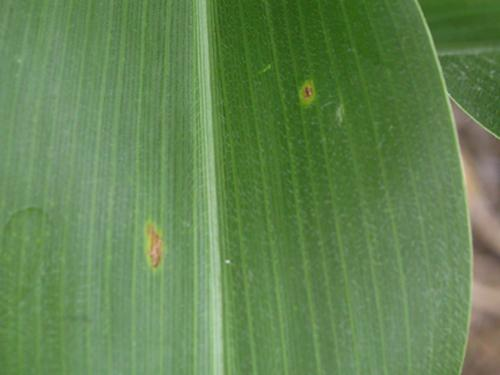Corn rust leaf: (1, 1, 415, 375)
